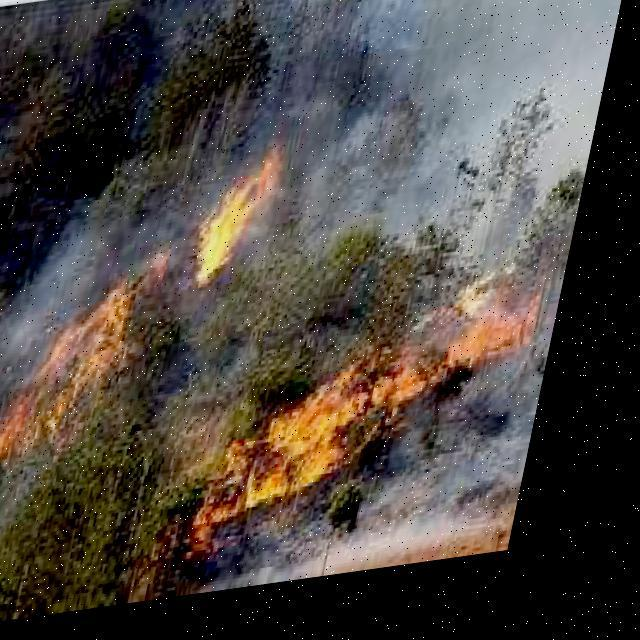Fire: (222, 280, 564, 557), (2, 263, 175, 475), (197, 154, 284, 298)
